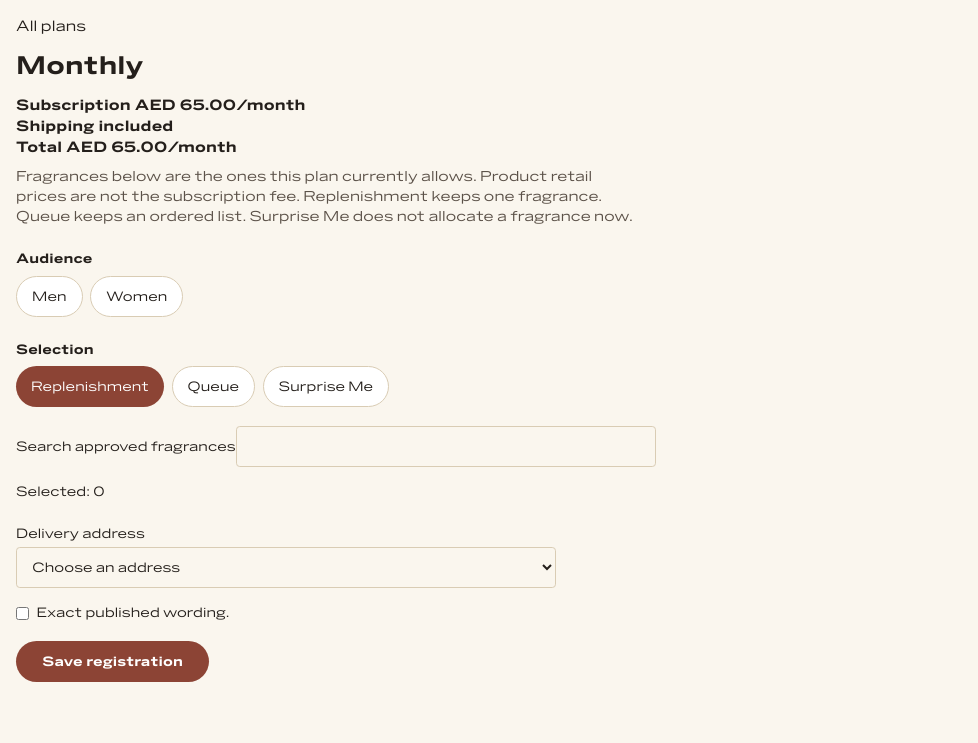
it: account subscriptions and registration gate › reuses the idempotency key when the same registration is retried
The width and height of the screenshot is (978, 743).
Expected: the text "Exact published wording." is shown, 36,603 -> 230,622
Click the button "Men".
click(49, 296)  # box 16,276 -> 83,317
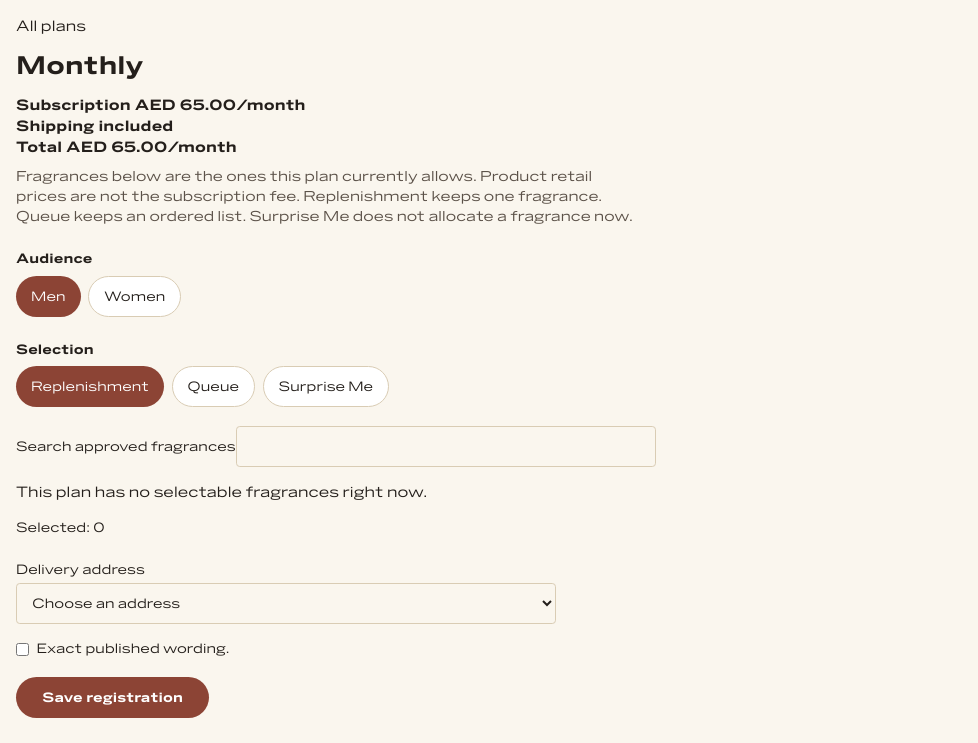
Click the button "Surprise Me".
click(326, 387)  # box 263,366 -> 389,407
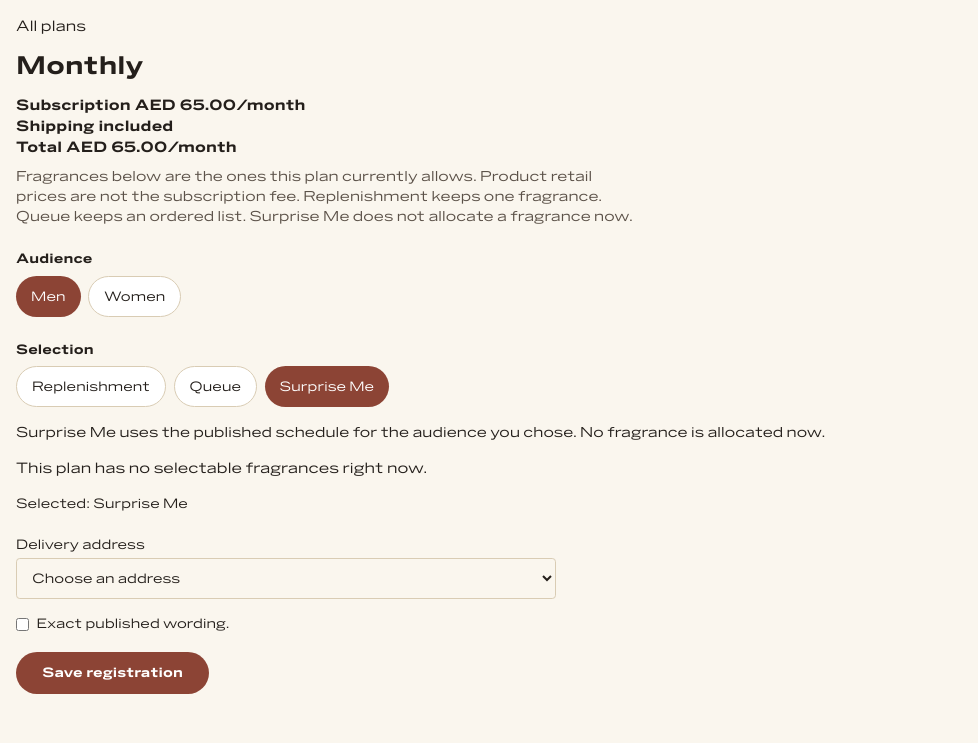
Select "1 Rose Street, Dubai, AE" in the dropdown labelled "Delivery address" at (286, 579), box 16,558 -> 556,600
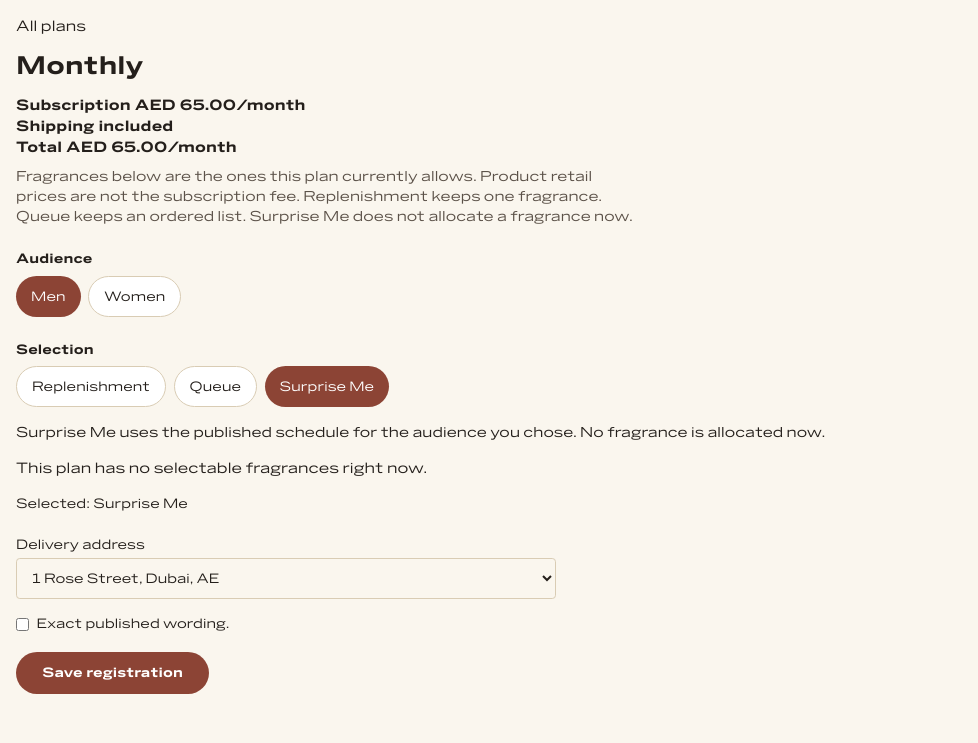
Click the checkbox.
click(22, 625)  # box 16,618 -> 29,631
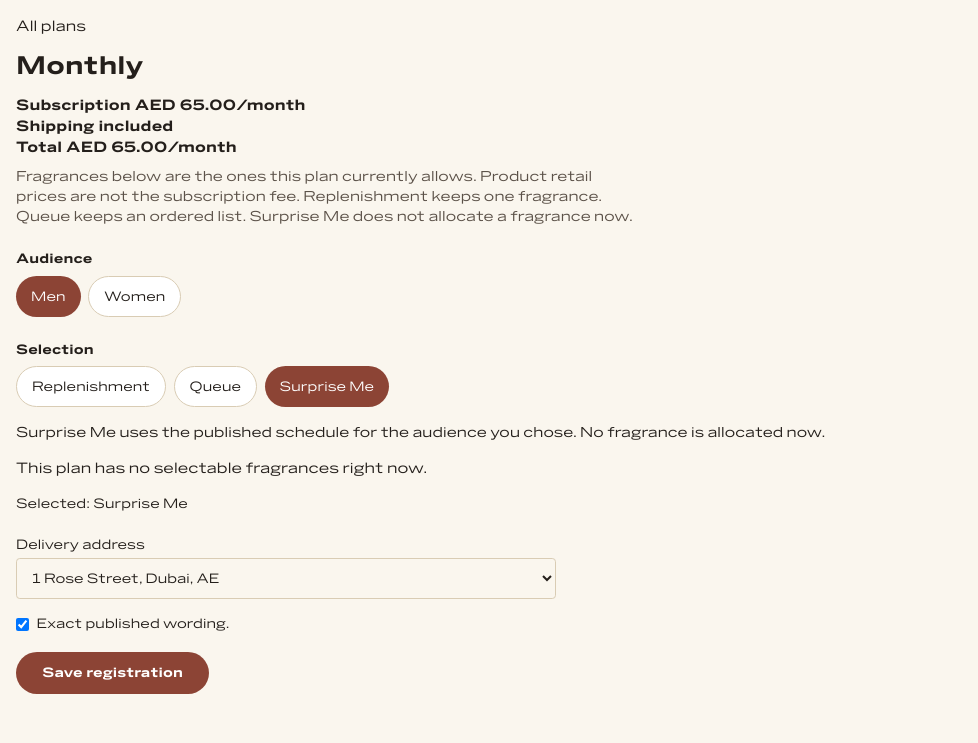
Click the button "Save registration".
click(113, 673)  # box 16,652 -> 209,694
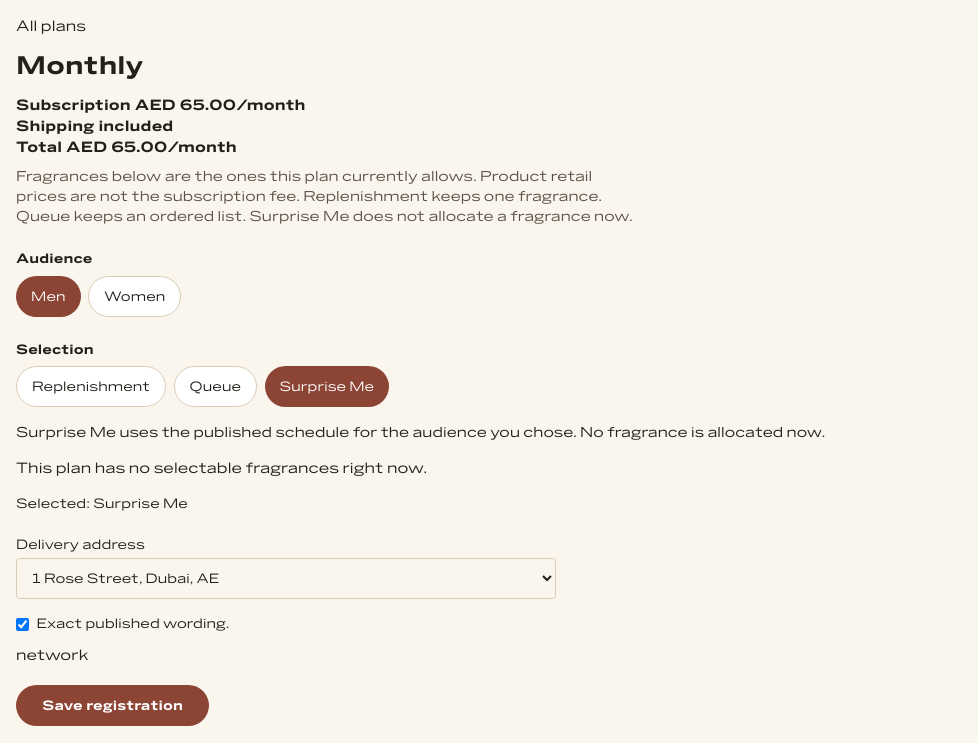
Result: the text "network" is shown at 16,647 -> 89,664
Click the button "Save registration".
click(113, 705)  # box 16,685 -> 209,726
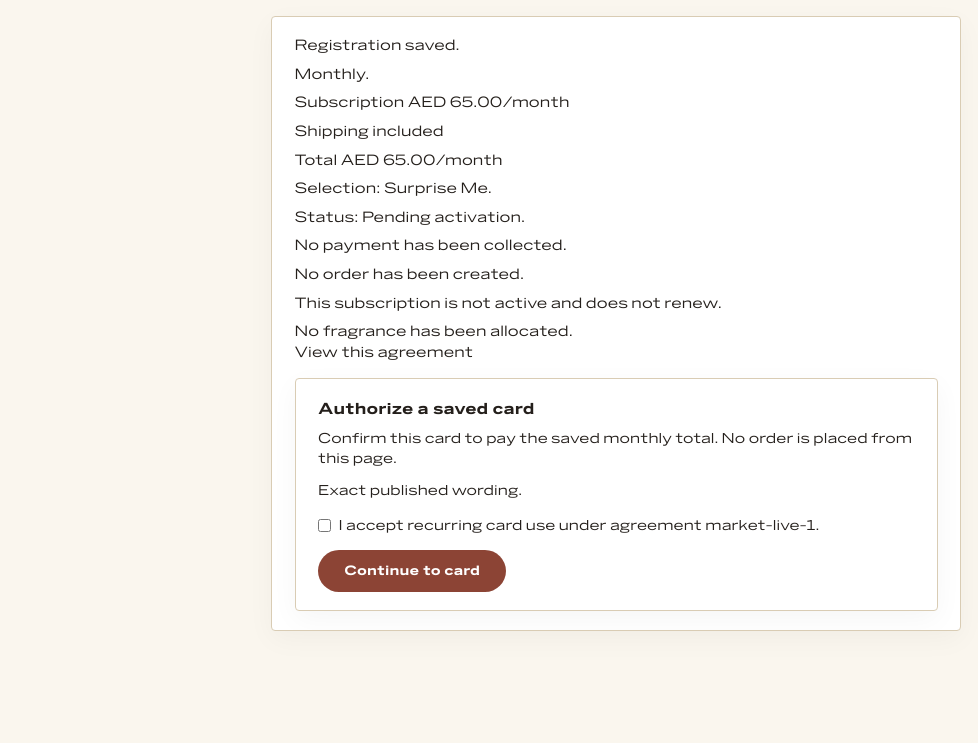
Result: the text "Status: Pending activation." is shown at 294,209 -> 525,226
